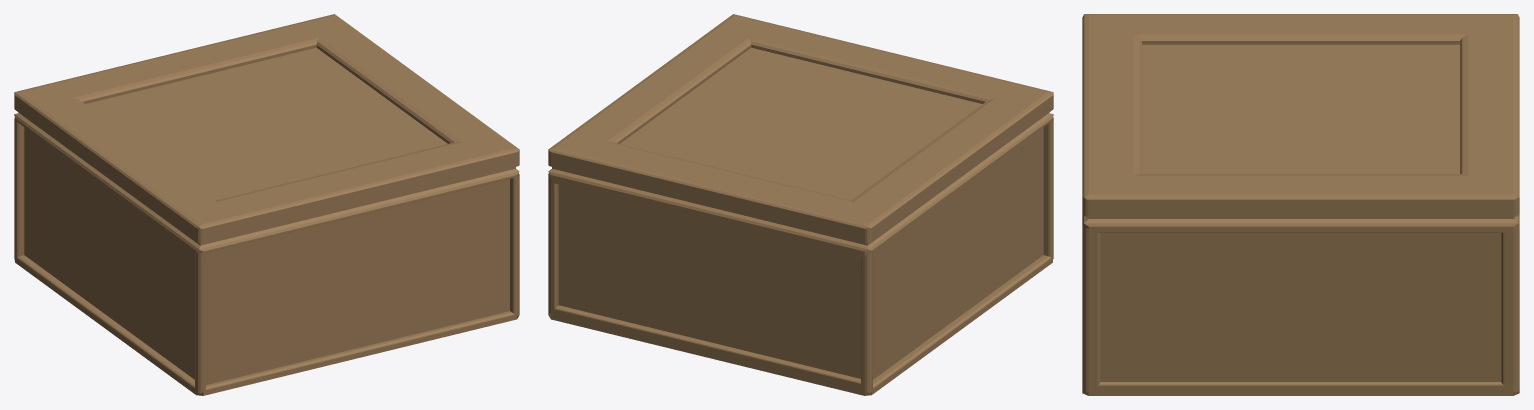
Rendered from M6BO_Model_Doos.fbx.
3 renders of one model, left to right at view 1: azimuth 30°, elevation 25°; view 2: azimuth 150°, elevation 25°; view 3: azimuth 270°, elevation 25°, orthographic. The views are drawn at different scales.
Visible parts, largest first — view 1: Doos; view 2: Doos; view 3: Doos.
Boxes of the visible parts, left/top/right/bottom form: Doos: left=14, top=14, right=519, bottom=395; Doos: left=548, top=14, right=1053, bottom=395; Doos: left=1082, top=14, right=1519, bottom=395.
Bounding box in the file's own units: 307 × 154 × 307.
